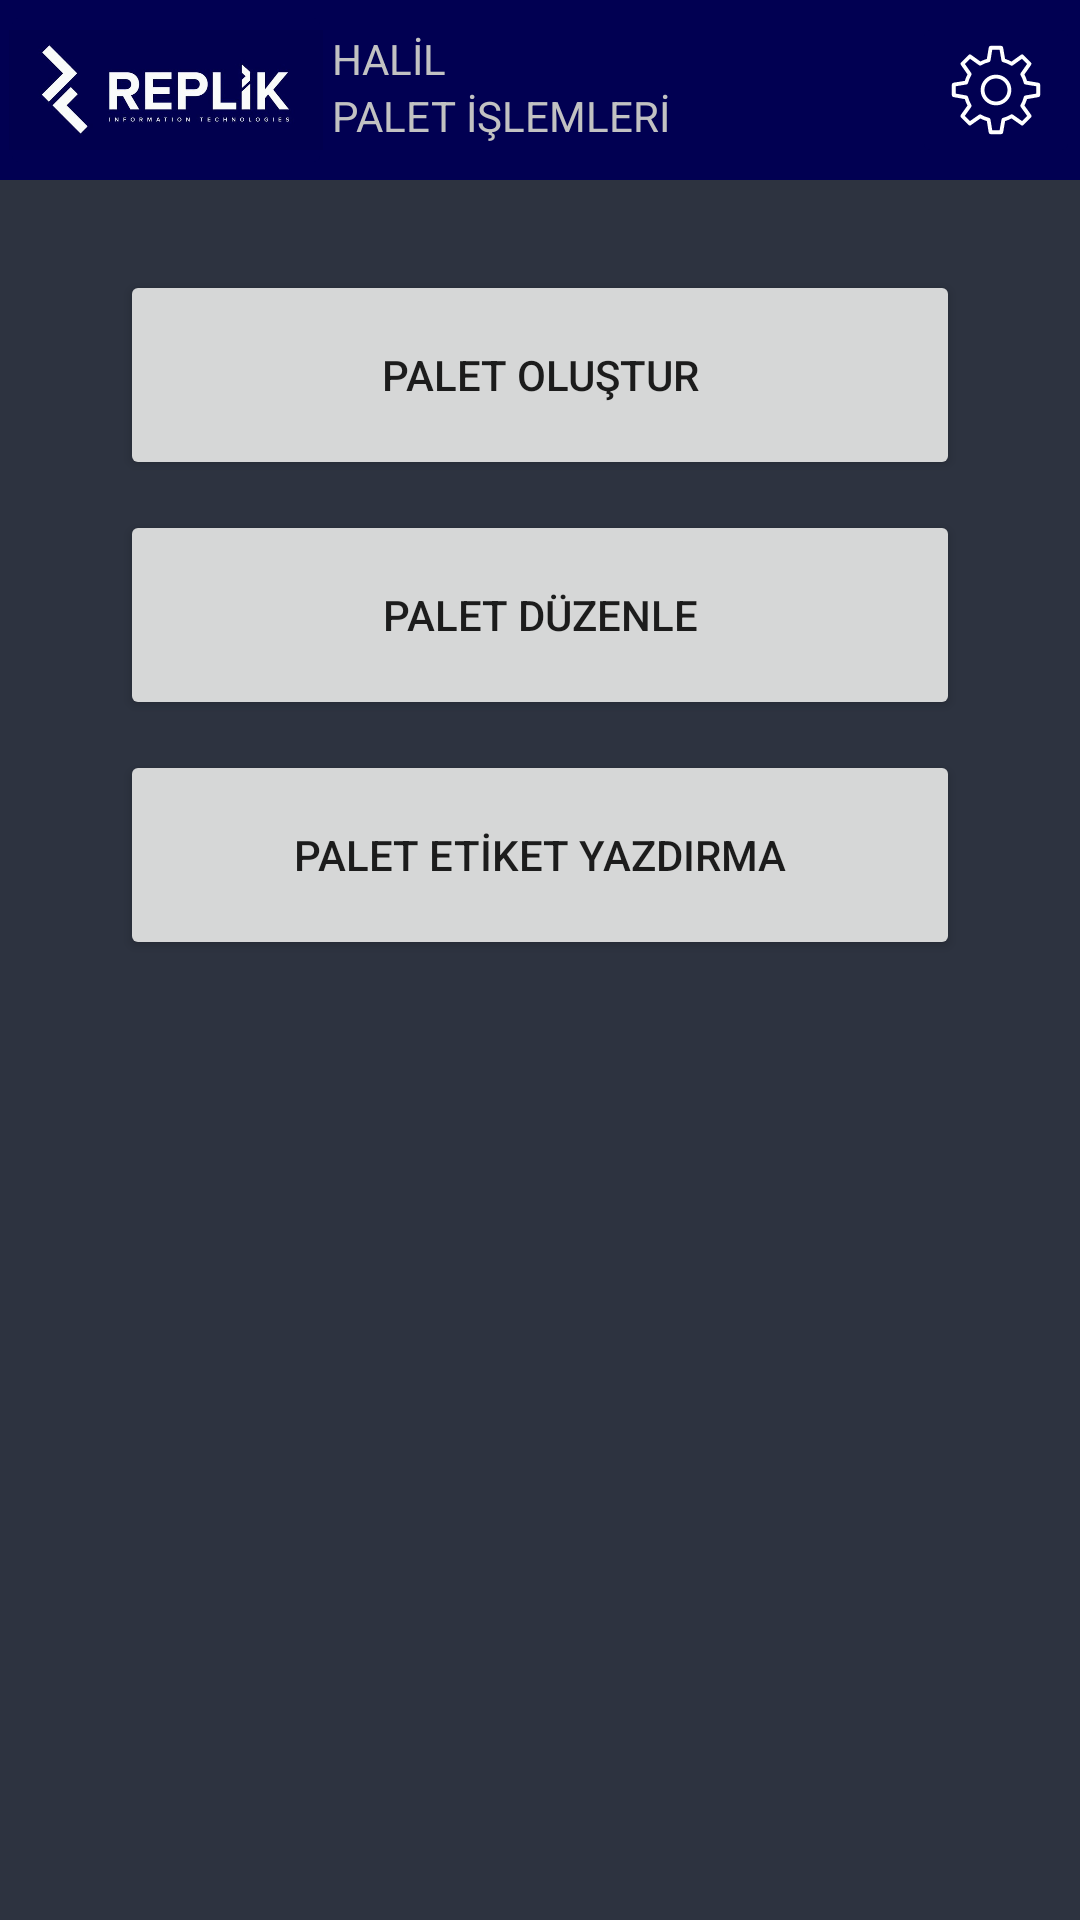

Screen size 1080 x 1920. Icon name, then its center in pixels as (x,y):
settings: (996,90)
